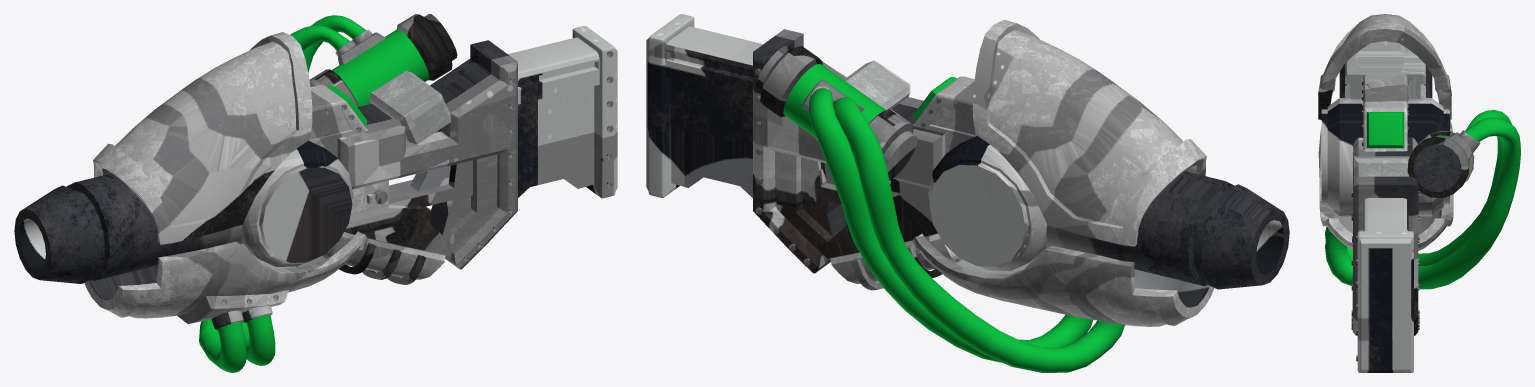
File: ColorGunV2.fbx
The picture shows the model from 3 angles, left to right: view 1: azimuth 30°, elevation 25°; view 2: azimuth 150°, elevation 25°; view 3: azimuth 270°, elevation 25°; orthographic projection. The views are drawn at different scales.
Visible parts, largest first — view 1: polySurface73; view 2: polySurface73; view 3: polySurface73.
Boxes of the visible parts, x1,y1,x2,y2 form: polySurface73: (14, 14, 617, 372); polySurface73: (646, 14, 1289, 372); polySurface73: (1318, 14, 1520, 372).
Bounding box in the file's own units: 90.15 × 46.01 × 30.13.
